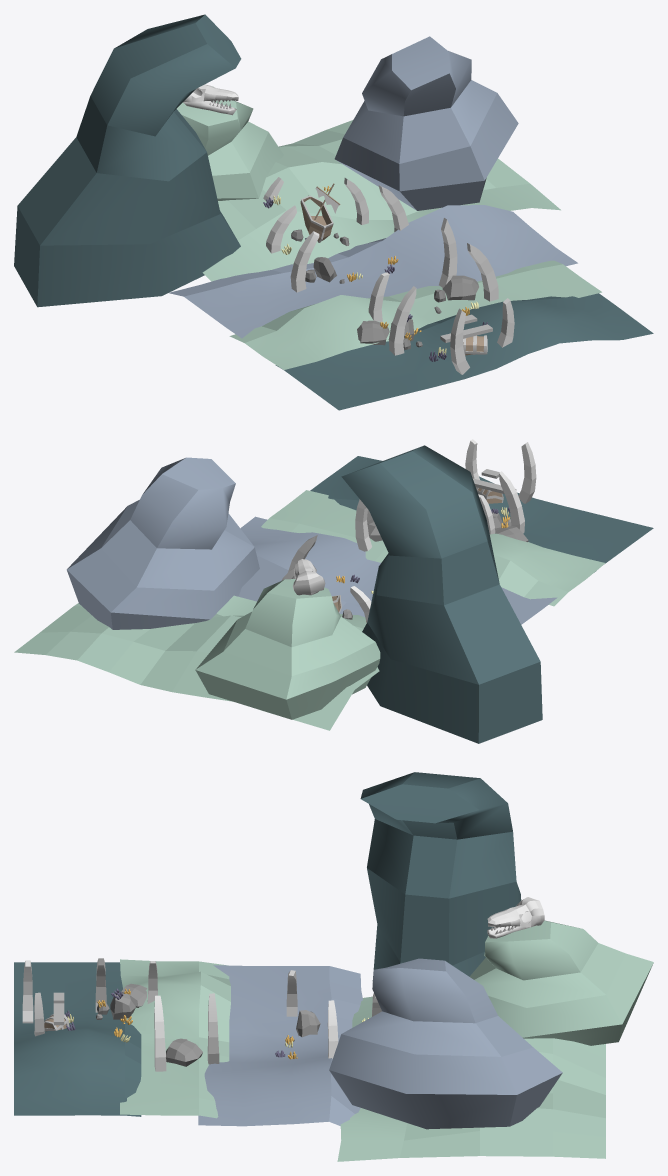
Rendered from SceneV2.fbx.
3 renders of one model, top to bottom at view 1: azimuth 30°, elevation 25°; view 2: azimuth 150°, elevation 25°; view 3: azimuth 270°, elevation 25°, orthographic. The views are drawn at different scales.
Parts seen in each view (by area): view 1: pCube24, pCube25, polySurface5, polySurface1, polySurface6, polySurface3, pCube33, Skull, pCube5, pCube7, Hull, pCube12 (+8 smaller); view 2: pCube24, pCube25, pCube33, polySurface6, polySurface3, polySurface5, polySurface1, Skull, pCube5, pCube9, pCube12; view 3: pCube25, pCube24, polySurface5, pCube33, polySurface1, polySurface6, polySurface3, Skull, pCube13, pCube19, pCube12, pCube9.
Part boxes in pixels (left/top/right/bottom): pCube24: left=14, top=14, right=241, bottom=307; pCube25: left=334, top=36, right=518, bottom=210; polySurface5: left=169, top=205, right=577, bottom=338; polySurface1: left=275, top=293, right=653, bottom=410; polySurface6: left=202, top=120, right=560, bottom=281; polySurface3: left=229, top=260, right=601, bottom=369; pCube33: left=176, top=86, right=283, bottom=200; Skull: left=183, top=84, right=238, bottom=115; pCube5: left=388, top=286, right=416, bottom=355; pCube7: left=290, top=231, right=319, bottom=292; Hull: left=300, top=195, right=333, bottom=242; pCube12: left=439, top=218, right=457, bottom=287; pCube24: left=341, top=445, right=542, bottom=743; pCube25: left=66, top=457, right=259, bottom=629; pCube33: left=195, top=579, right=380, bottom=719; polySurface6: left=14, top=595, right=379, bottom=730; polySurface3: left=261, top=490, right=605, bottom=606; polySurface5: left=234, top=516, right=557, bottom=624; polySurface1: left=310, top=456, right=653, bottom=572; Skull: left=292, top=559, right=325, bottom=595; pCube5: left=499, top=471, right=524, bottom=533; pCube9: left=518, top=442, right=536, bottom=503; pCube12: left=355, top=499, right=371, bottom=551; pCube25: left=329, top=958, right=562, bottom=1129; pCube24: left=360, top=772, right=521, bottom=981; polySurface5: left=198, top=965, right=362, bottom=1126; pCube33: left=469, top=920, right=653, bottom=1045; polySurface1: left=14, top=962, right=141, bottom=1116; polySurface6: left=337, top=996, right=605, bottom=1161; polySurface3: left=120, top=959, right=230, bottom=1118; Skull: left=487, top=897, right=544, bottom=938; pCube13: left=154, top=995, right=166, bottom=1071; pCube19: left=166, top=1039, right=202, bottom=1066; pCube12: left=207, top=993, right=219, bottom=1064; pCube9: left=22, top=960, right=33, bottom=1023.
Size of the model in its own units: 111 by 52.91 by 129.
